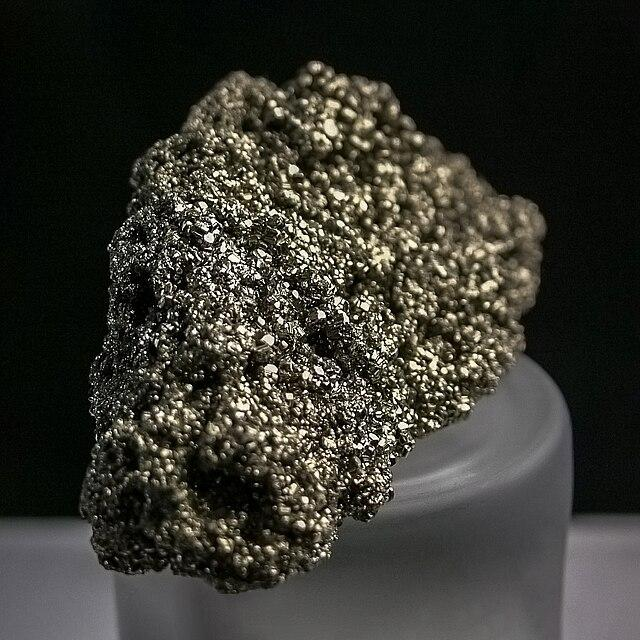pyrite: (79, 56, 551, 604)
